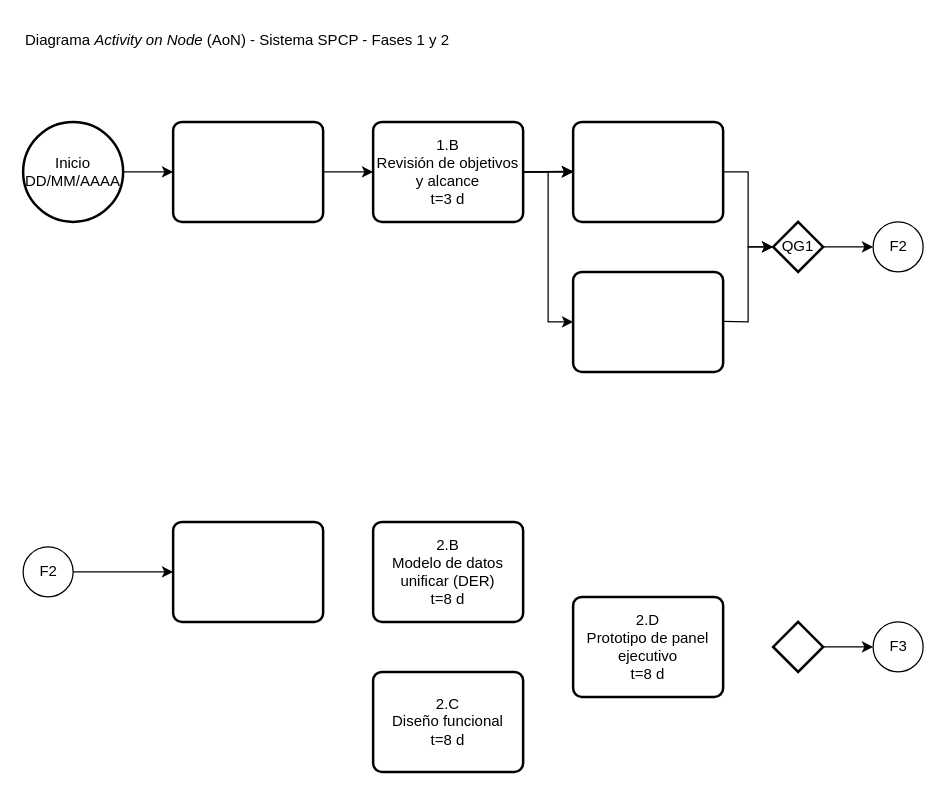
The diagram is 945 pixels wide and 794 high, and some of its shapes have lost their labels. Each missing label, with the centre of its shape:
1.A Planificación de la fase t=1 d: the point at 247,171
1.C Preparación de entorno y control de versiones t=3 d: the point at 647,171
1.D Planificación de pruebas y CA t=4 d: the point at 647,321
2.A Planificación de la fase t=1 d: the point at 247,571
QG2: the point at 797,646
